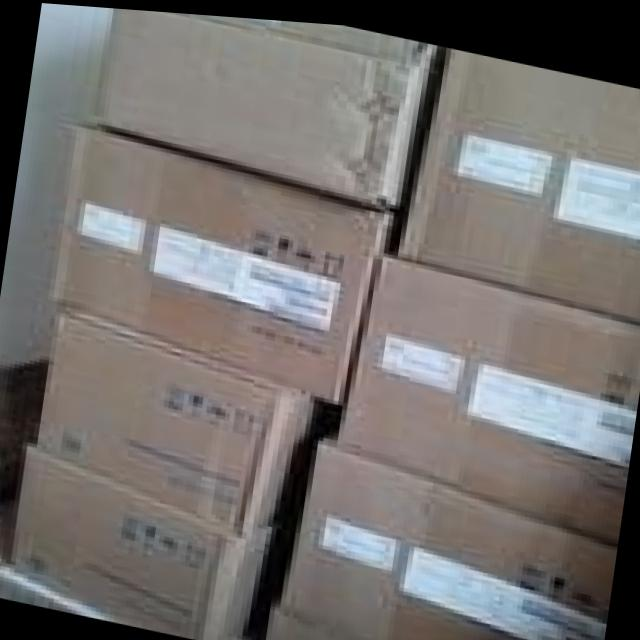box: (48, 125, 394, 401), (332, 250, 640, 538), (275, 431, 618, 640), (96, 7, 437, 206), (32, 301, 315, 535), (398, 42, 640, 315), (10, 447, 272, 640), (0, 566, 109, 620), (265, 602, 362, 640)
